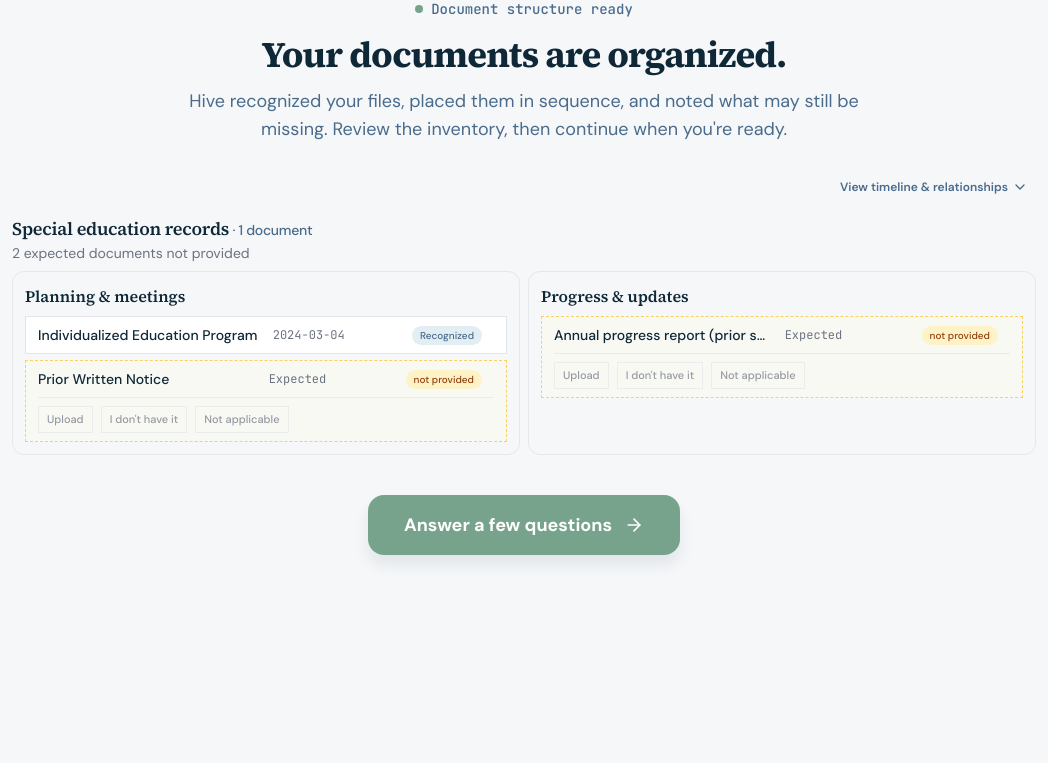
DocumentDiscoveryExperience › reveals timeline map behind secondary control
Click the button with test id "view-timeline-relationships".
click(934, 187)  # box [832, 175, 1036, 199]
(page scrolled)
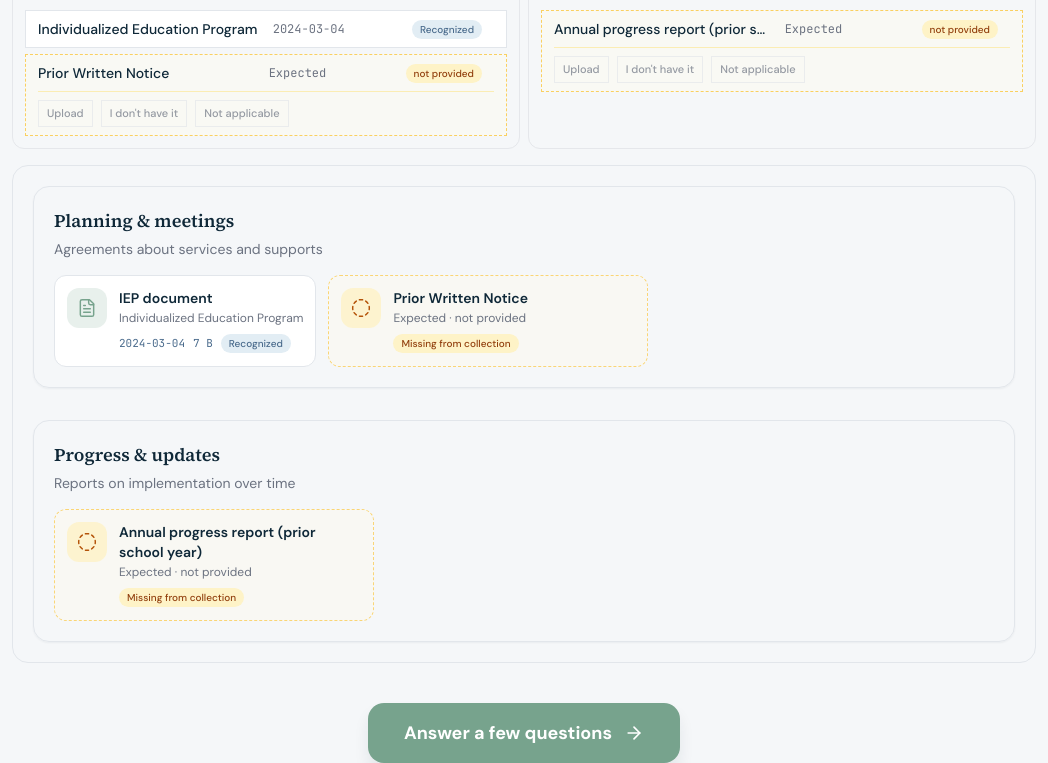
Check: the element with test id "document-structure-map" is shown, box [33, 186, 1015, 642]
